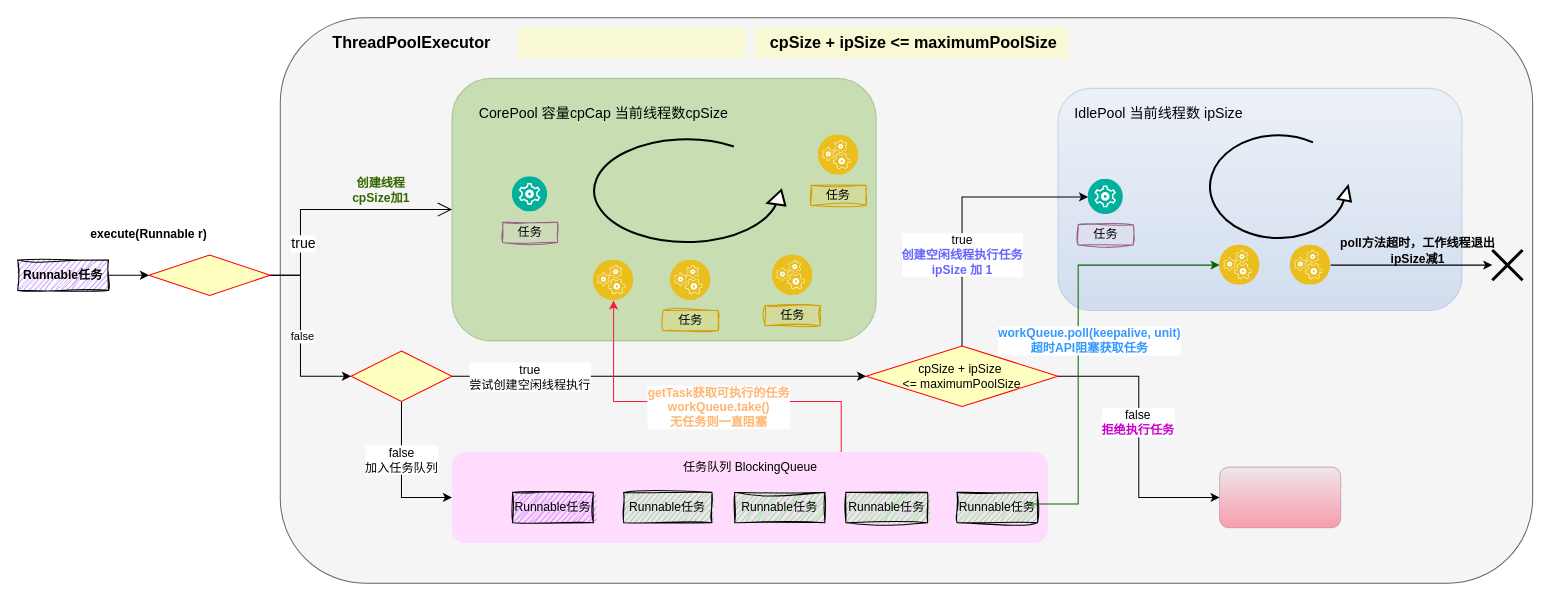
The diagram is 1550 pixels wide and 601 high, and some of its shapes have lost their labels. The box of each missing label's shape, as (x1, y1, x2, y2) in pixels:
cpCap = corePoolSize: (518, 27, 745, 58)
RejectedHandler: (1219, 466, 1341, 528)
wc < coolPoolSize: (148, 254, 270, 295)
阻塞队列已满: (350, 350, 452, 401)
